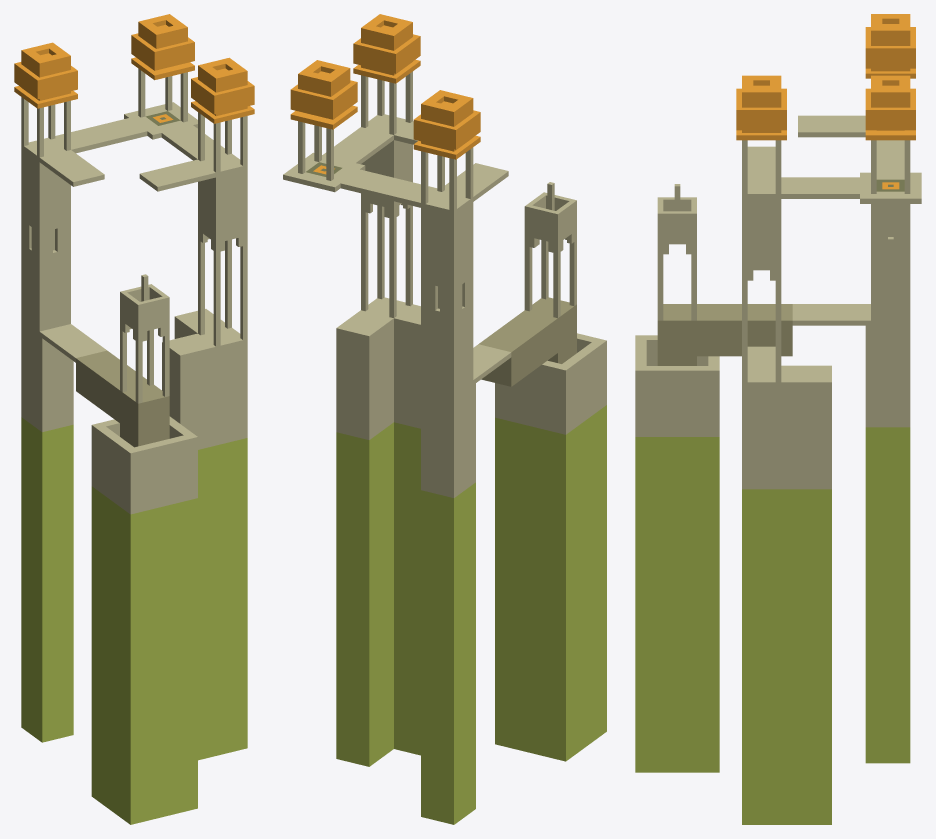
The model's file is cena1.obj.
3 renders of one model, left to right at view 1: azimuth 30°, elevation 25°; view 2: azimuth 150°, elevation 25°; view 3: azimuth 270°, elevation 25°, orthographic. The views are drawn at different scales.
Bounding box in the file's own units: 3.9 × 14.4 × 5.1.
Materials: 1 (1 with a texture image).
